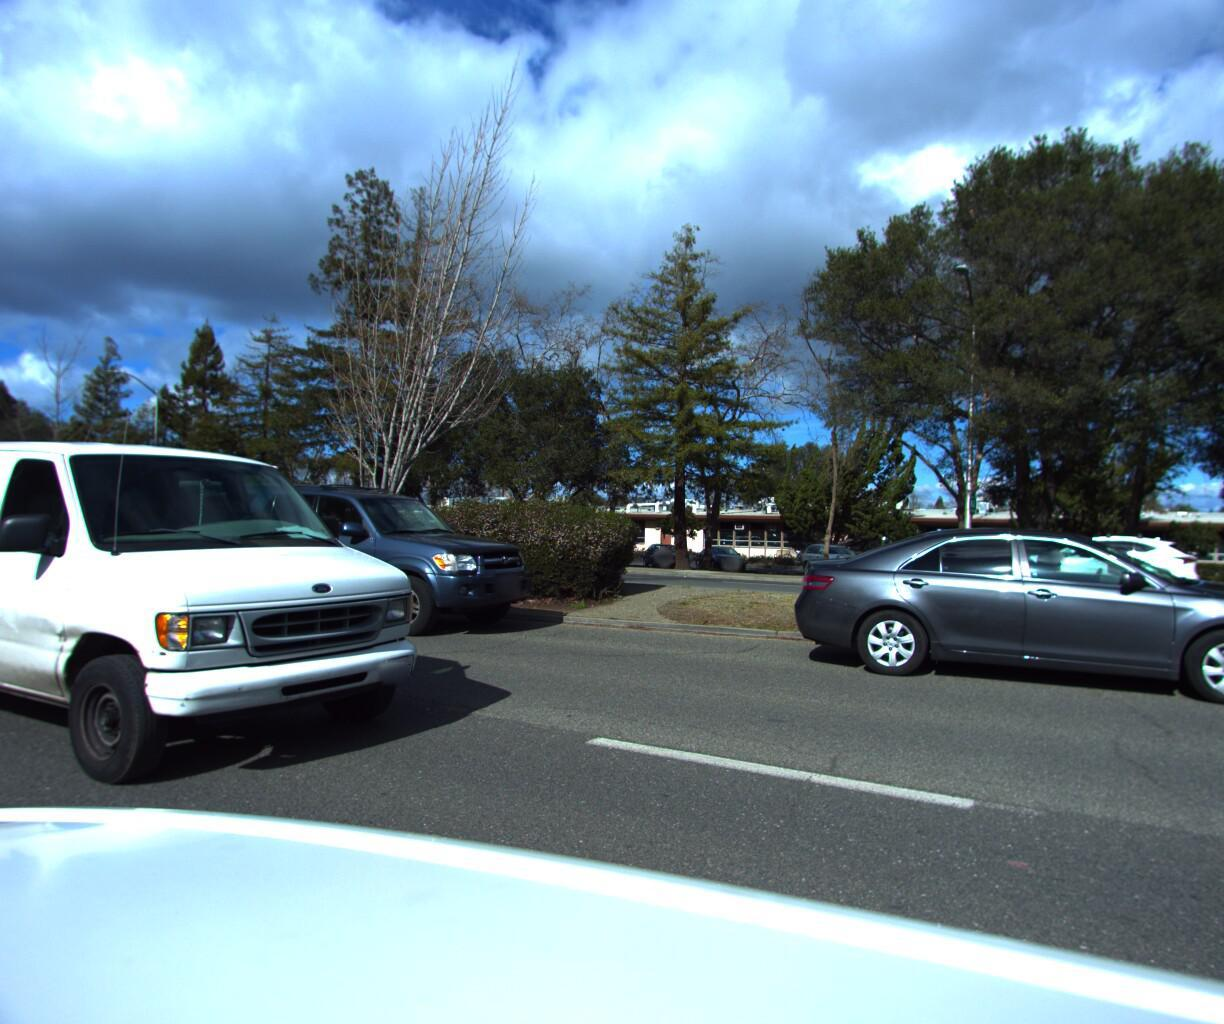car: (0, 384, 438, 819), (775, 524, 1224, 720), (165, 478, 542, 646), (988, 533, 1203, 616)
